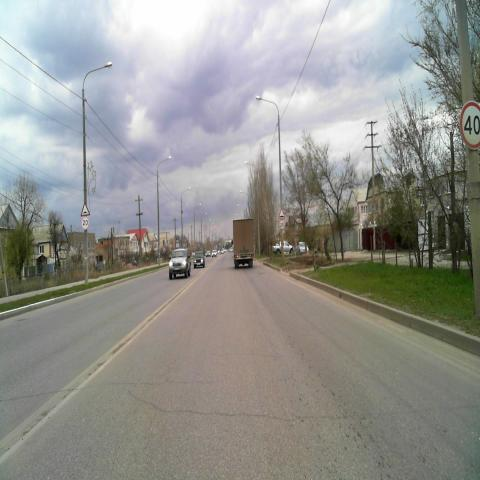1_17: (80, 201, 90, 216)
